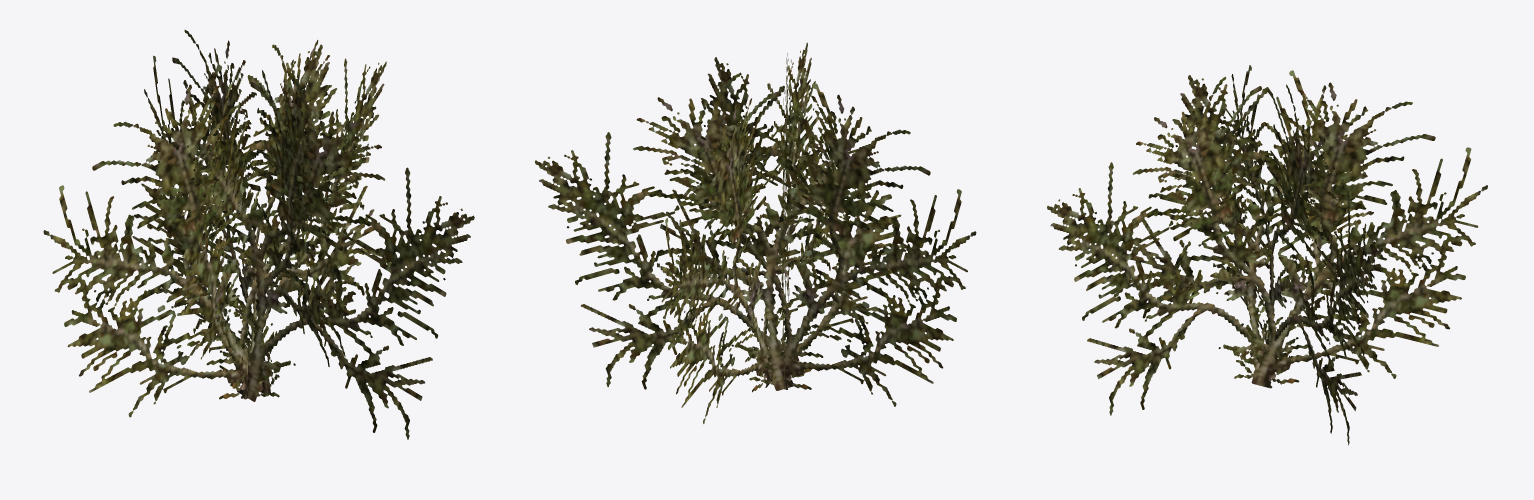
The picture shows the model from 3 angles, left to right: view 1: azimuth 30°, elevation 25°; view 2: azimuth 150°, elevation 25°; view 3: azimuth 270°, elevation 25°; orthographic projection. The views are drawn at different scales.
Visible parts, largest first — view 1: _DB01B; view 2: _DB01B; view 3: _DB01B.
Part boxes in pixels (x1=…): _DB01B: x1=43, y1=30, x2=474, y2=439; _DB01B: x1=535, y1=42, x2=976, y2=423; _DB01B: x1=1047, y1=65, x2=1487, y2=445.
Size of the model in its own units: 4.12 by 3.67 by 4.15.
1 material, 1 textured.
